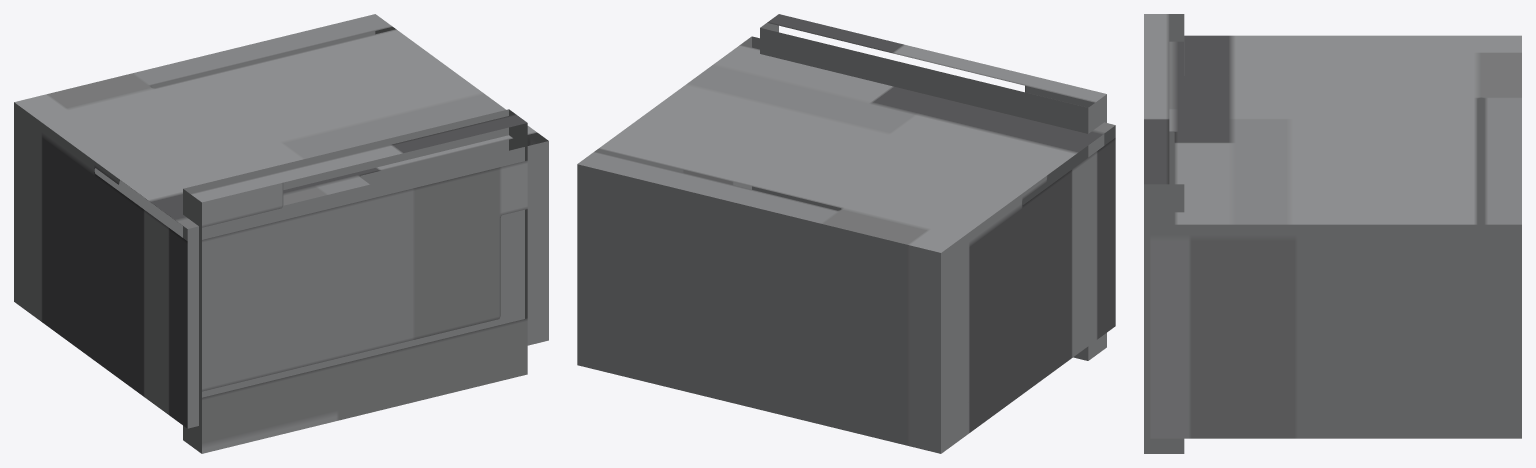
The picture shows the model from 3 angles, left to right: view 1: azimuth 30°, elevation 25°; view 2: azimuth 150°, elevation 25°; view 3: azimuth 270°, elevation 25°; orthographic projection. The views are drawn at different scales.
Bounding box in the file's own units: 1.04 × 0.6912 × 0.8782.
